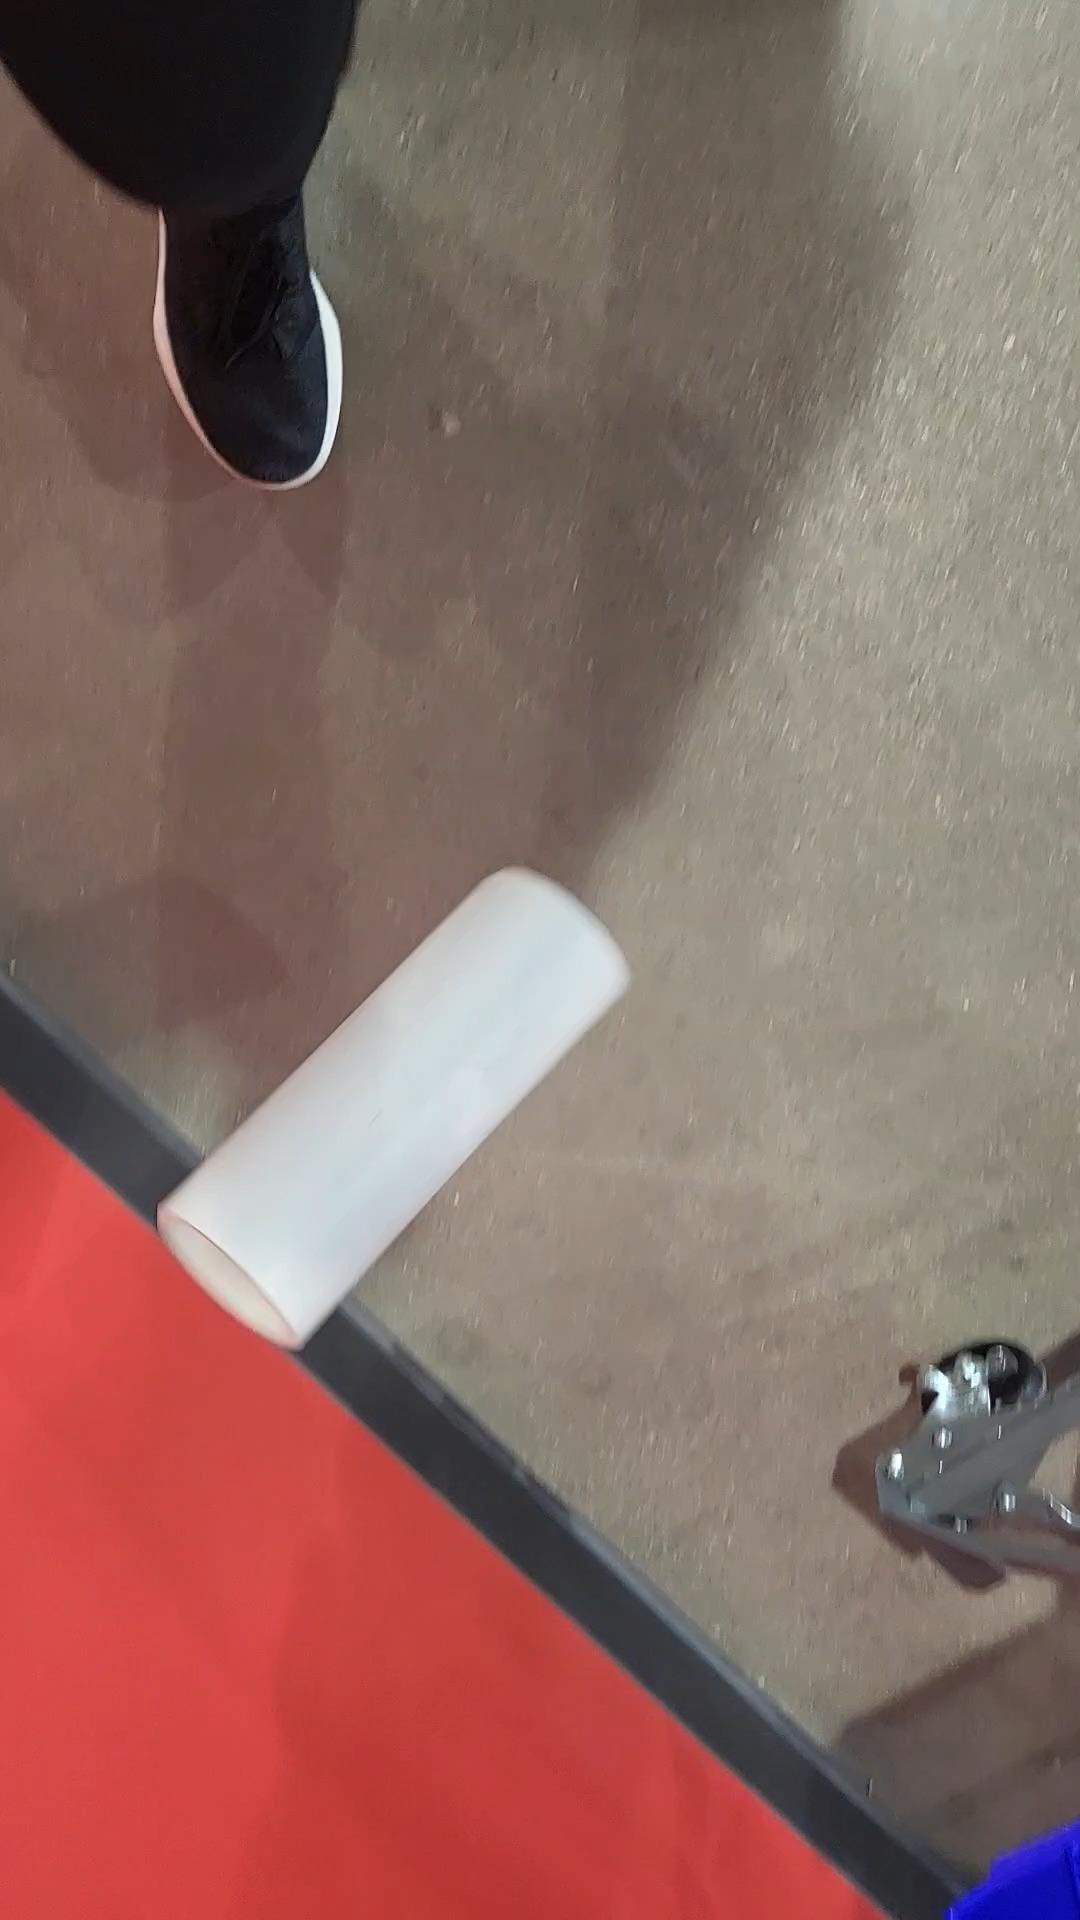coral: (157, 870, 630, 1348)
